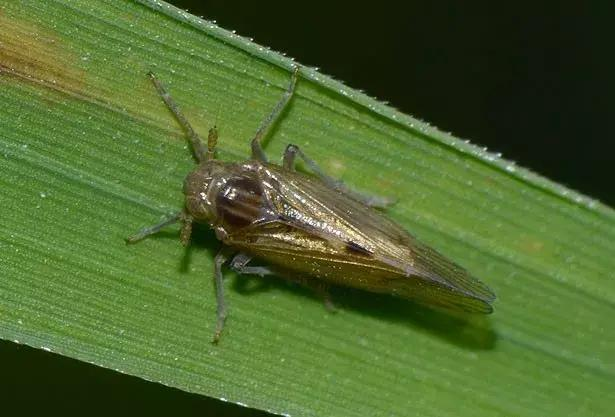Delphacidae: (125, 65, 496, 343)
